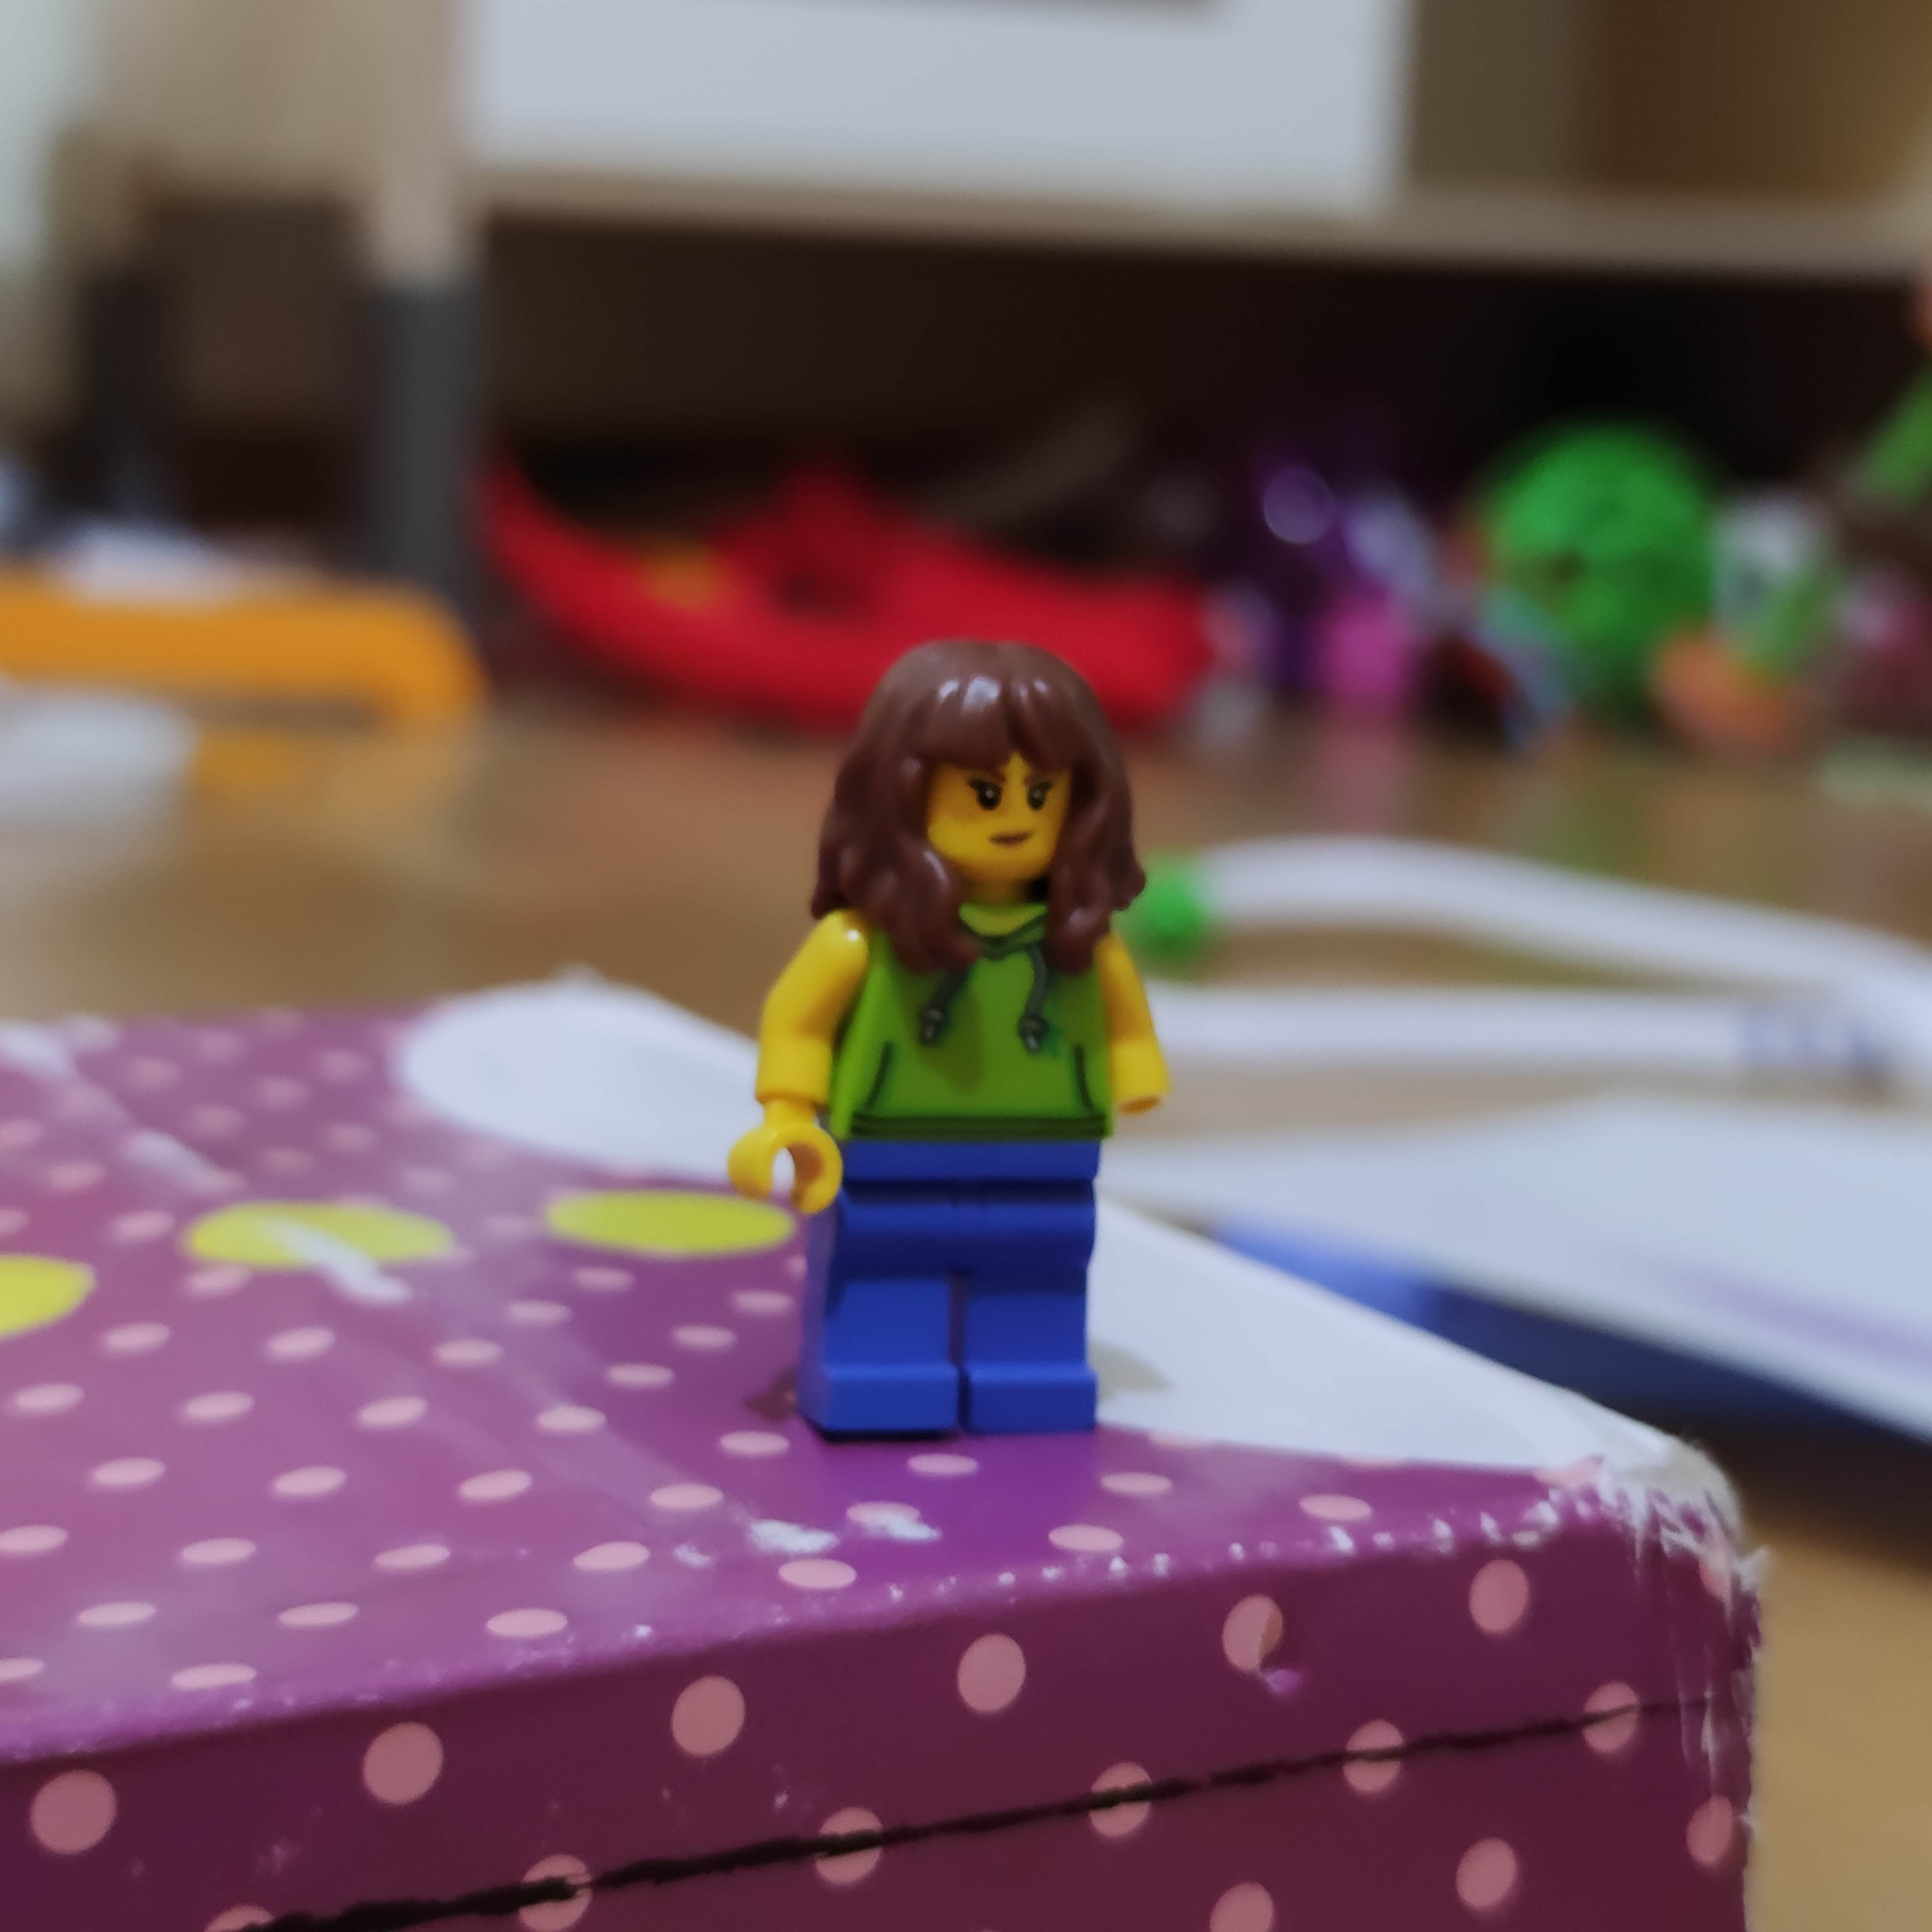lego: (729, 633, 1180, 1444)
